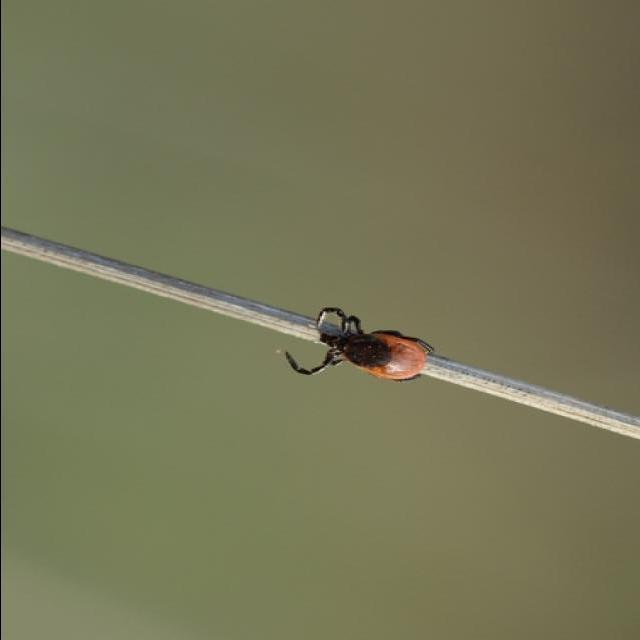Ixodes Ricinus-F: (282, 307, 433, 383)
